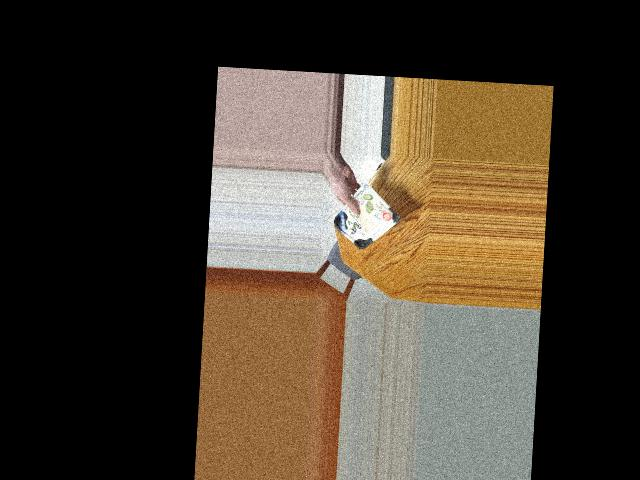cheese: (336, 201, 394, 242)
